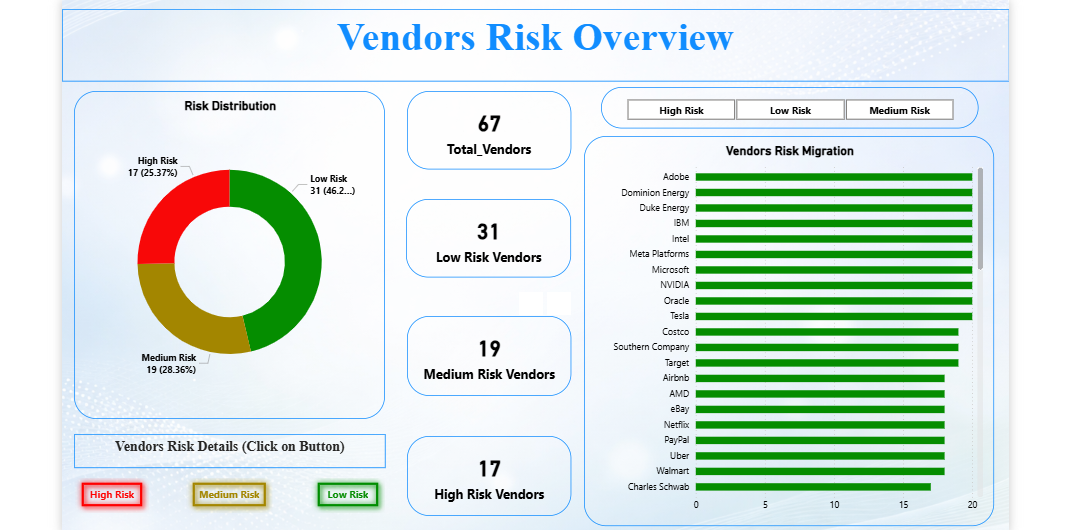

The page's visual inventory and layout, read from the dashboard file:
{"tool":"powerbi","page":{"name":"Executive Overview","canvas":[1280,720],"ordinal":0},"visuals":[{"type":"textbox","box":[0,12.4,1280,97.7],"z":0},{"type":"donutChart","title":"Risk Distribution","fields":{"Category":["Vendors.Risk Level"],"Y":["CountNonNull(Vendors.Vendor_ID)"]},"box":[15.8,123.5,420.4,442.8],"z":1000},{"type":"clusteredBarChart","title":"Vendors Risk Migration","fields":{"Category":["Vendors.Company_Name"],"Y":["Sum(Vendors.Total Rating)"]},"box":[705.5,183.9,554.5,526.9],"z":2000},{"type":"slicer","title":"Risk Distribution","fields":{"Values":["Vendors.Risk Level"]},"box":[727.9,116.9,509.8,56.5],"z":3000},{"type":"card","title":"Risk Distribution","fields":{"Values":["Vendors.Medium Risk Vendors"]},"box":[466.4,427,222,107.7],"z":4000},{"type":"card","title":"Risk Distribution","fields":{"Values":["Vendors.Total_Vendors"]},"box":[466.4,123.5,222,106.4],"z":5000},{"type":"actionButton","box":[17.1,642.5,99.9,49.9],"z":6000},{"type":"actionButton","box":[336.4,642.5,99.9,49.9],"z":7000},{"type":"actionButton","box":[168.2,642.5,116.9,49.9],"z":8000},{"type":"textbox","box":[15.7,586.5,421,45.7],"z":9000},{"type":"card","title":"Risk Distribution","fields":{"Values":["Vendors.High Risk Vendors"]},"box":[466.4,588.6,222,107.7],"z":10000},{"type":"card","title":"Risk Distribution","fields":{"Values":["Vendors.Low Risk Vendors"]},"box":[465.1,269.3,223.4,106.4],"z":11000}]}

Visuals, with their boxes on the page's 1280x720 design canvas (x1, y1, x2, y2). These are canvas units, not pixel positions in the 1073x530 screenshot, which may show the page scaled, cropped or inside an application window:
textbox: 0,12,1280,110
"Risk Distribution" donutChart: 16,124,436,566
"Vendors Risk Migration" clusteredBarChart: 706,184,1260,711
"Risk Distribution" slicer: 728,117,1238,173
"Risk Distribution" card: 466,427,688,535
"Risk Distribution" card: 466,124,688,230
actionButton: 17,642,117,692
actionButton: 336,642,436,692
actionButton: 168,642,285,692
textbox: 16,586,437,632
"Risk Distribution" card: 466,589,688,696
"Risk Distribution" card: 465,269,688,376
